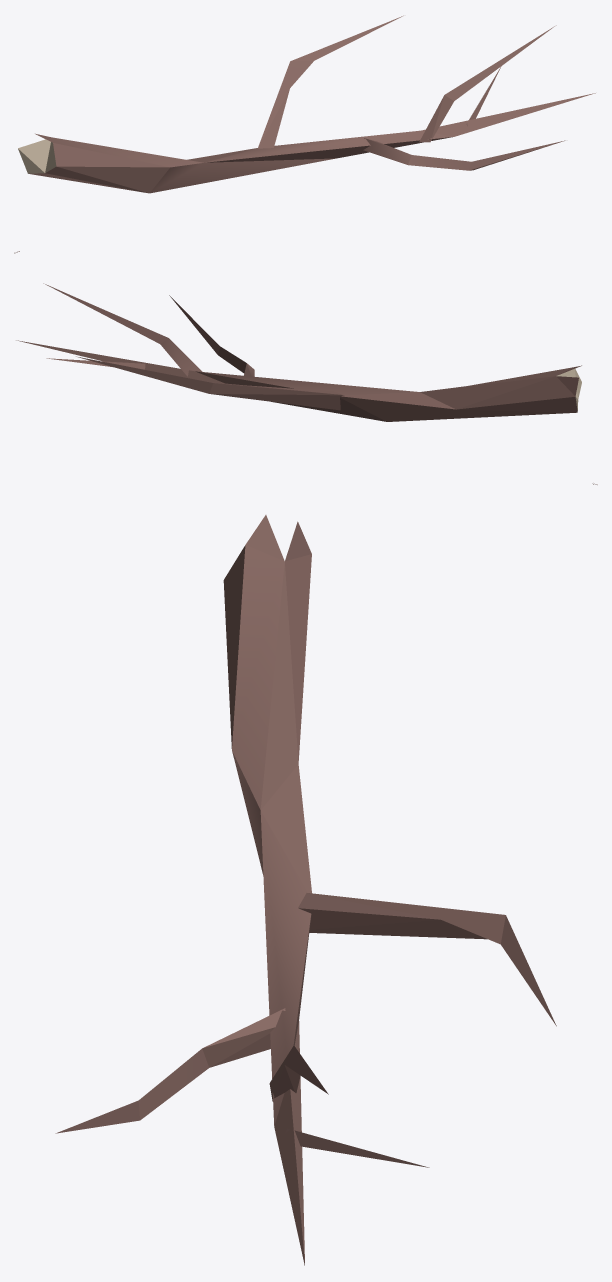
Rendered from fallentree2.gltf.
3 renders of one model, top to bottom at view 1: azimuth 30°, elevation 25°; view 2: azimuth 150°, elevation 25°; view 3: azimuth 270°, elevation 25°, orthographic. The views are drawn at different scales.
Visible parts, largest first — view 1: FallenTree_1_2_LOD1_2; view 2: FallenTree_1_2_LOD1_2; view 3: FallenTree_1_2_LOD1_2.
Boxes of the visible parts, x1,y1,x2,y2 form: FallenTree_1_2_LOD1_2: (18,15,595,193); FallenTree_1_2_LOD1_2: (16,283,581,421); FallenTree_1_2_LOD1_2: (55,515,556,1265).
Bounding box in the file's own units: 820 × 156 × 310.
